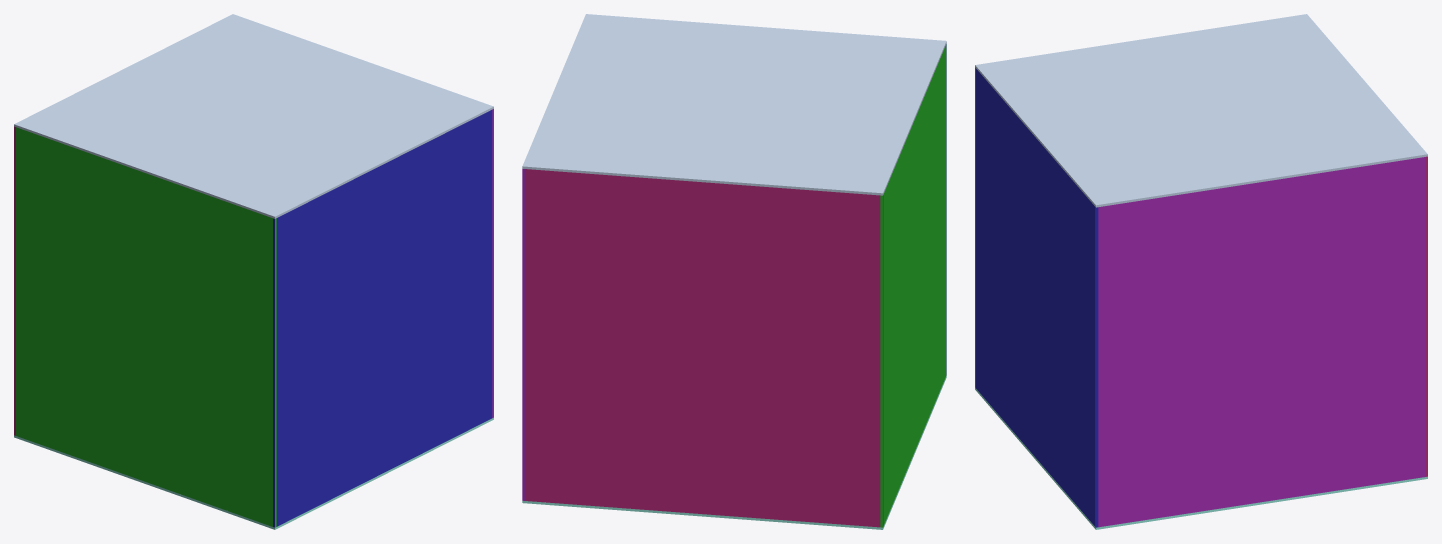
3 renders of one model, left to right at view 1: azimuth 30°, elevation 25°; view 2: azimuth 150°, elevation 25°; view 3: azimuth 270°, elevation 25°, orthographic. The views are drawn at different scales.
Visible parts, largest first — view 1: Box002, Box004, Box006, Box001, Box005, Box003; view 2: Box005, Box006, Box002, Box001, Box003; view 3: Box003, Box006, Box004, Box001, Box005.
Part boxes in pixels (box(x1,y1,x2,y2)): Box002: box(16, 127, 276, 527); Box004: box(273, 110, 492, 527); Box006: box(14, 14, 493, 218); Box001: box(14, 417, 493, 529); Box005: box(14, 126, 15, 435); Box003: box(492, 109, 493, 417); Box005: box(525, 169, 883, 527); Box006: box(522, 14, 946, 195); Box002: box(880, 44, 946, 527); Box001: box(522, 376, 946, 529); Box003: box(522, 169, 524, 500); Box003: box(1095, 157, 1425, 527); Box006: box(975, 14, 1427, 207); Box004: box(976, 69, 1098, 527); Box001: box(975, 387, 1427, 529); Box005: box(1425, 156, 1427, 476).
Bounding box in the file's own units: 44.86 × 35.5 × 44.86.
